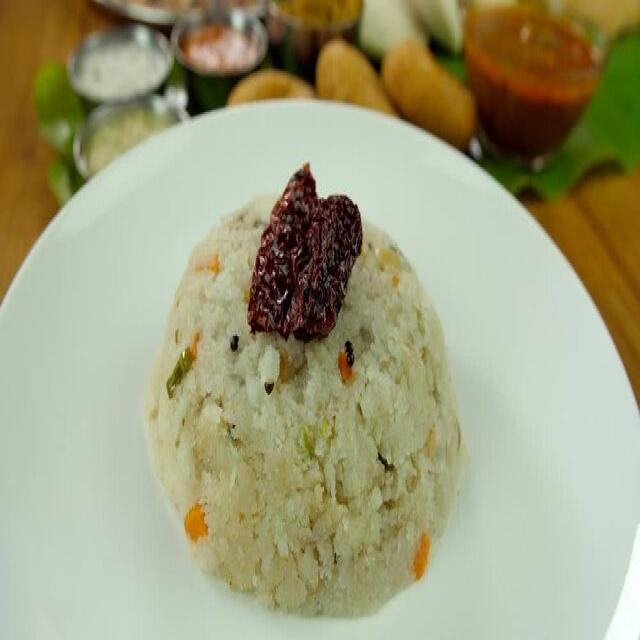UPMA: (149, 164, 460, 613)
